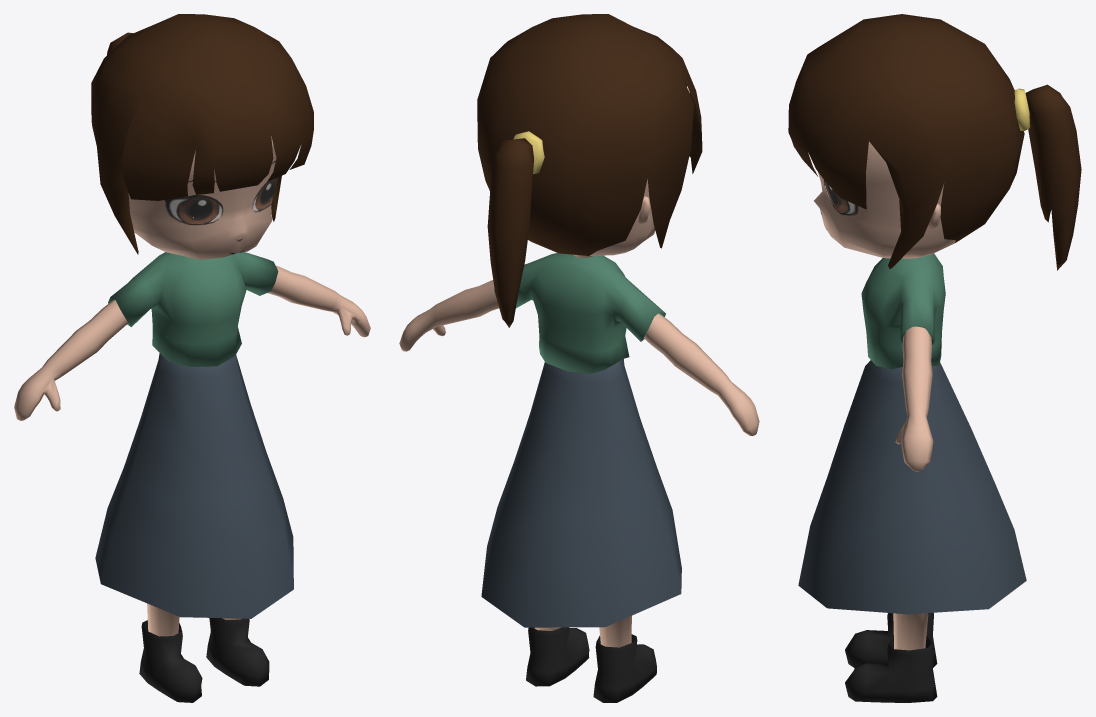
The model's file is jessy.glb.
3 views of the same model, side by side, from view 1: azimuth 30°, elevation 25°; view 2: azimuth 150°, elevation 25°; view 3: azimuth 270°, elevation 25° (orthographic).
Parts seen in each view (by area): view 1: Jessy; view 2: Jessy; view 3: Jessy.
Part boxes in pixels (x1,y1,x2,y2): Jessy: (14,14,370,702); Jessy: (399,14,759,702); Jessy: (788,14,1081,702).
Size of the model in its own units: 0.8985 by 1.6 by 0.6466.
Materials: 9 (1 with a texture image).
